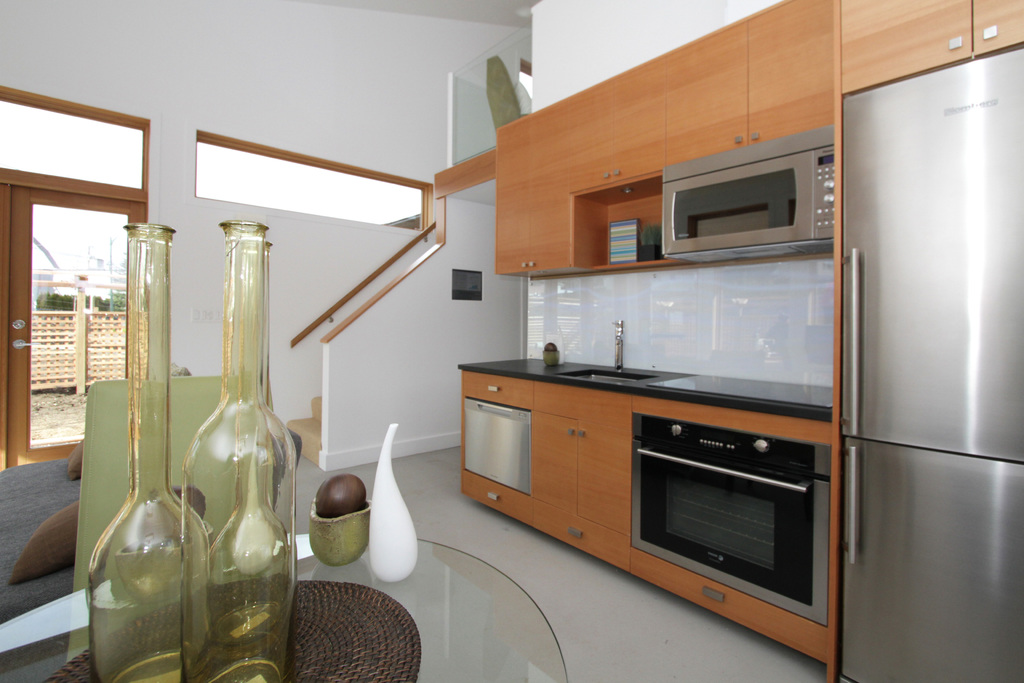cabinet door: (745, 21, 830, 139), (664, 578, 814, 629), (674, 52, 754, 146), (530, 112, 578, 268), (843, 3, 957, 66), (531, 505, 634, 562), (494, 130, 531, 272), (619, 72, 665, 174), (529, 410, 584, 495), (579, 426, 632, 508), (575, 99, 614, 181), (467, 478, 536, 521), (975, 3, 1024, 46), (471, 370, 531, 400)
door: (20, 200, 121, 450)
handle: (638, 445, 808, 509), (839, 249, 872, 434), (842, 443, 868, 567), (694, 586, 726, 604), (13, 334, 36, 357), (979, 23, 1001, 45), (750, 119, 765, 148), (726, 129, 747, 149), (562, 524, 584, 541), (488, 491, 506, 510), (483, 378, 502, 396), (950, 30, 963, 49)
refrigerator door: (849, 98, 1024, 441), (854, 445, 1024, 668)
